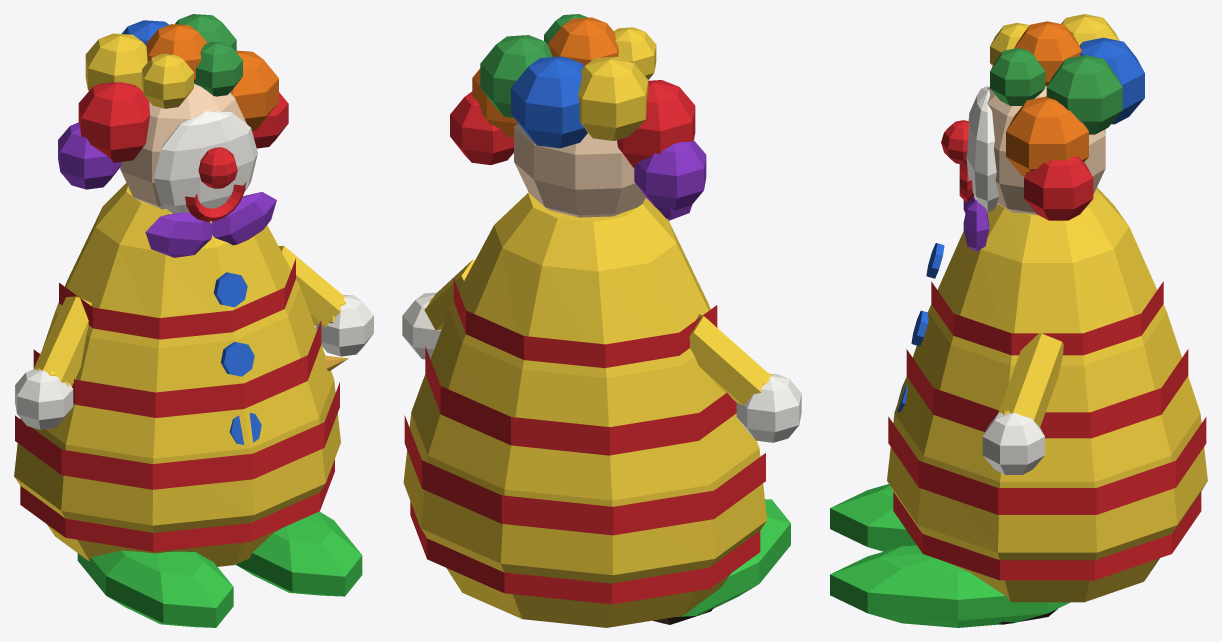
The model's file is npc_chispita.glb.
3 views of the same model, side by side, from view 1: azimuth 30°, elevation 25°; view 2: azimuth 150°, elevation 25°; view 3: azimuth 270°, elevation 25° (orthographic). The views are drawn at different scales.
Parts seen in each view (by area): view 1: body_chispita_yellow, body_chispita_red, wig, shoes_chispita_shoes (×2), face_white, gloves_white, arms_chispita_yellow, body_chispita_bow (×2), head_skin_crema, body_chispita_button (×3), nose_chispita_red, face_chispita_red; view 2: body_chispita_yellow, body_chispita_red, wig, head_skin_crema, gloves_white, arms_chispita_yellow, shoes_chispita_shoes; view 3: body_chispita_yellow, body_chispita_red, wig, shoes_chispita_shoes (×2), arms_chispita_yellow, head_skin_crema, gloves_white, face_white, body_chispita_bow, nose_chispita_red.
Boxes of the visible parts, <box> form: body_chispita_yellow: <box>14,183,340,566</box>; body_chispita_red: <box>15,258,339,551</box>; wig: <box>58,14,288,189</box>; shoes_chispita_shoes (×2): <box>77,511,362,627</box>; face_white: <box>154,111,257,213</box>; gloves_white: <box>15,295,373,429</box>; arms_chispita_yellow: <box>33,245,345,386</box>; body_chispita_bow (×2): <box>145,192,276,257</box>; head_skin_crema: <box>120,84,246,209</box>; body_chispita_button (×3): <box>213,272,261,444</box>; nose_chispita_red: <box>198,147,237,188</box>; face_chispita_red: <box>185,182,245,221</box>; body_chispita_yellow: <box>403,192,767,627</box>; body_chispita_red: <box>404,278,765,604</box>; wig: <box>450,14,706,209</box>; head_skin_crema: <box>514,124,645,217</box>; gloves_white: <box>402,292,801,442</box>; arms_chispita_yellow: <box>424,259,772,405</box>; shoes_chispita_shoes: <box>676,499,790,616</box>; body_chispita_yellow: <box>887,187,1207,602</box>; body_chispita_red: <box>888,281,1206,580</box>; wig: <box>990,14,1144,220</box>; shoes_chispita_shoes (×2): <box>830,484,1070,627</box>; arms_chispita_yellow: <box>998,333,1063,426</box>; head_skin_crema: <box>987,86,1105,215</box>; gloves_white: <box>982,413,1044,474</box>; face_white: <box>966,86,999,212</box>; body_chispita_bow: <box>963,200,989,251</box>; nose_chispita_red: <box>941,120,968,164</box>.
Bounding box in the file's own units: 1.14 × 1.66 × 1.01.
